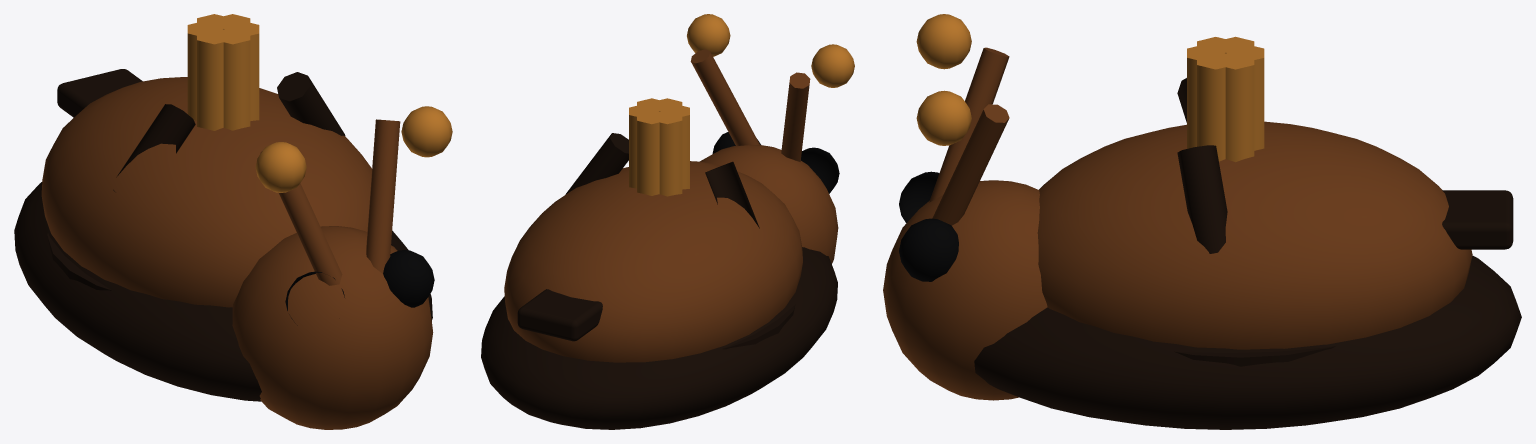
The model's file is titan.obj.
The picture shows the model from 3 angles, left to right: view 1: azimuth 30°, elevation 25°; view 2: azimuth 150°, elevation 25°; view 3: azimuth 270°, elevation 25°; orthographic projection. The views are drawn at different scales.
Size of the model in its own units: 0.496 by 0.4712 by 0.8023.
